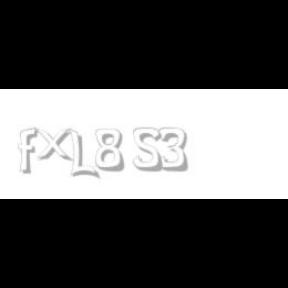3: (158, 128, 189, 172)
8: (96, 128, 124, 172)
L: (69, 128, 97, 180)
S: (132, 128, 163, 172)
f: (18, 128, 42, 174)
x: (34, 128, 76, 162)
